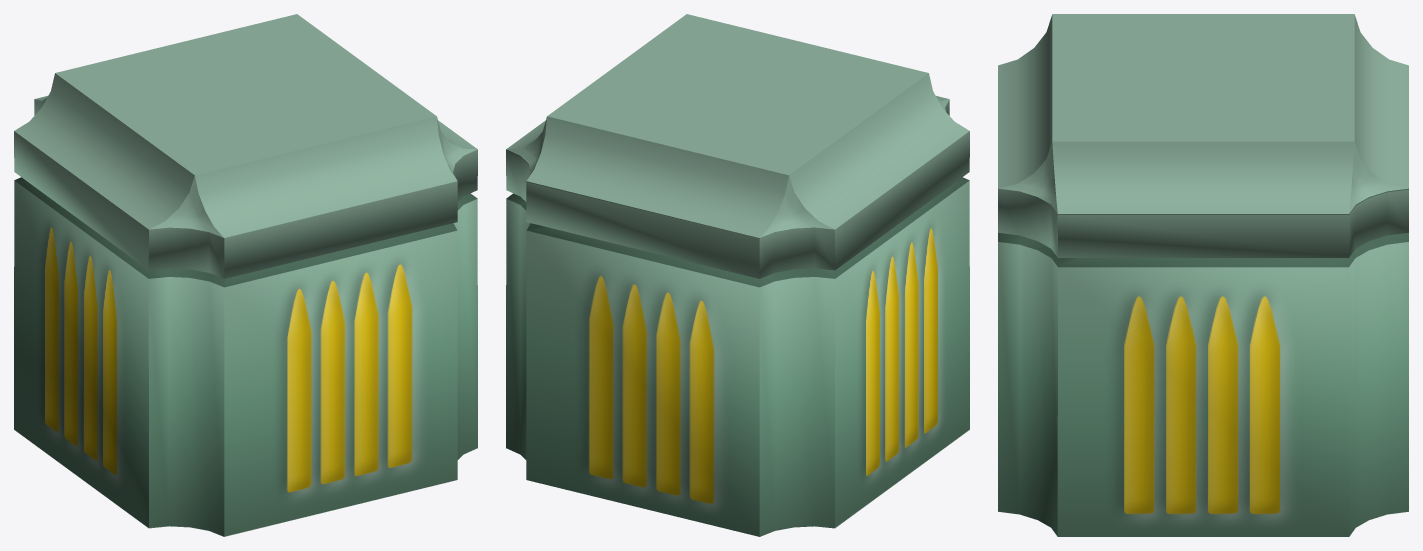
The model's file is ItemBox.glb.
3 views of the same model, side by side, from view 1: azimuth 30°, elevation 25°; view 2: azimuth 150°, elevation 25°; view 3: azimuth 270°, elevation 25° (orthographic). The views are drawn at different scales.
Visible parts, largest first — view 1: Cube; view 2: Cube; view 3: Cube.
Boxes of the visible parts, left/top/right/bottom form: Cube: left=14, top=14, right=477, bottom=536; Cube: left=506, top=14, right=969, bottom=536; Cube: left=998, top=14, right=1408, bottom=536.
Bounding box in the file's own units: 1 × 1 × 1.
Materials: 1 (1 with a texture image).
